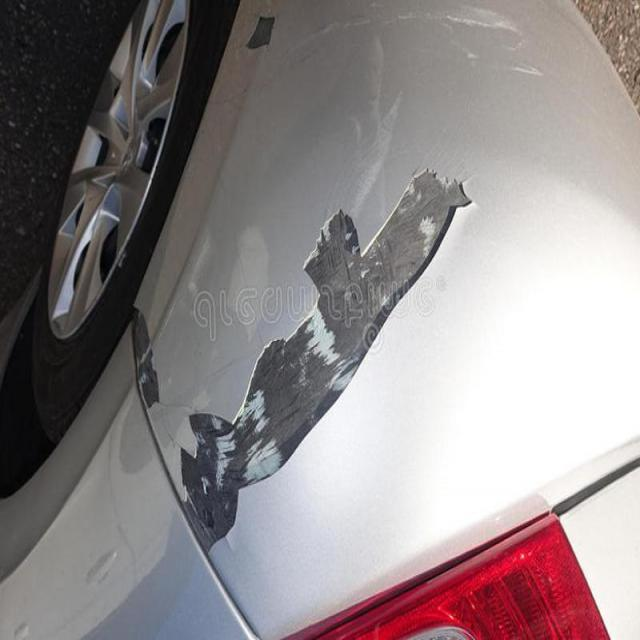scratch: (118, 121, 496, 575)
